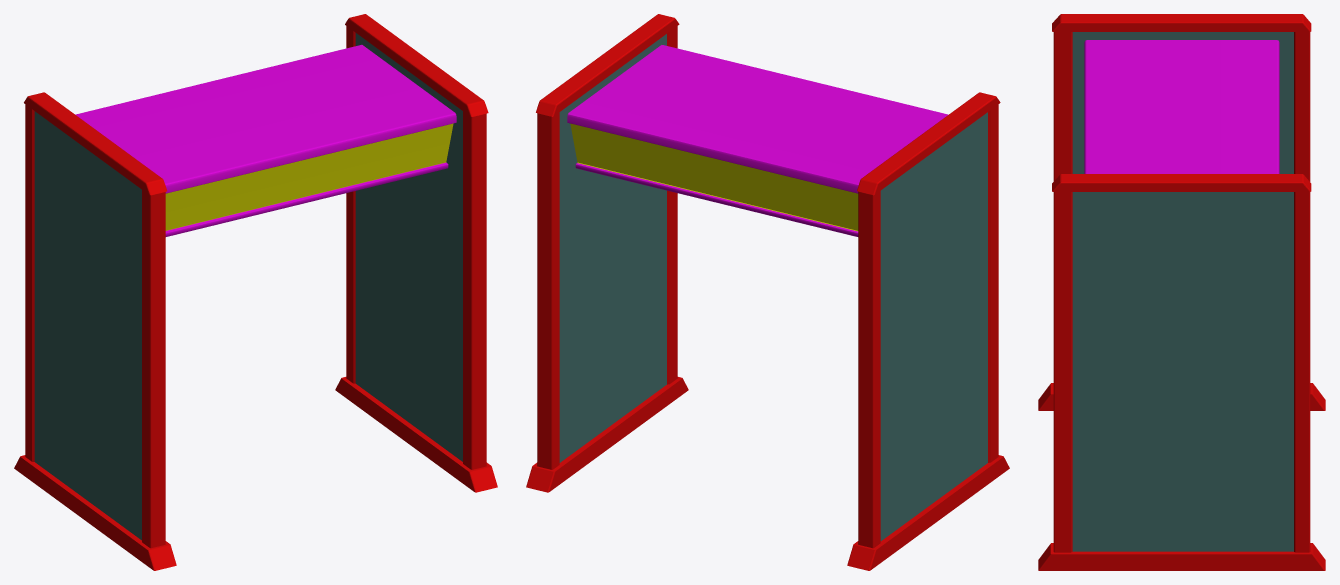
The model's file is S_Scanner.fbx.
3 renders of one model, left to right at view 1: azimuth 30°, elevation 25°; view 2: azimuth 150°, elevation 25°; view 3: azimuth 270°, elevation 25°, orthographic. The views are drawn at different scales.
Parts seen in each view (by area): view 1: S_Scanner; view 2: S_Scanner; view 3: S_Scanner.
Boxes of the visible parts, x1,y1,x2,y2 form: S_Scanner: [14, 14, 497, 570]; S_Scanner: [526, 14, 1009, 570]; S_Scanner: [1038, 14, 1325, 570].
Size of the model in its own units: 169 by 178 by 120.
